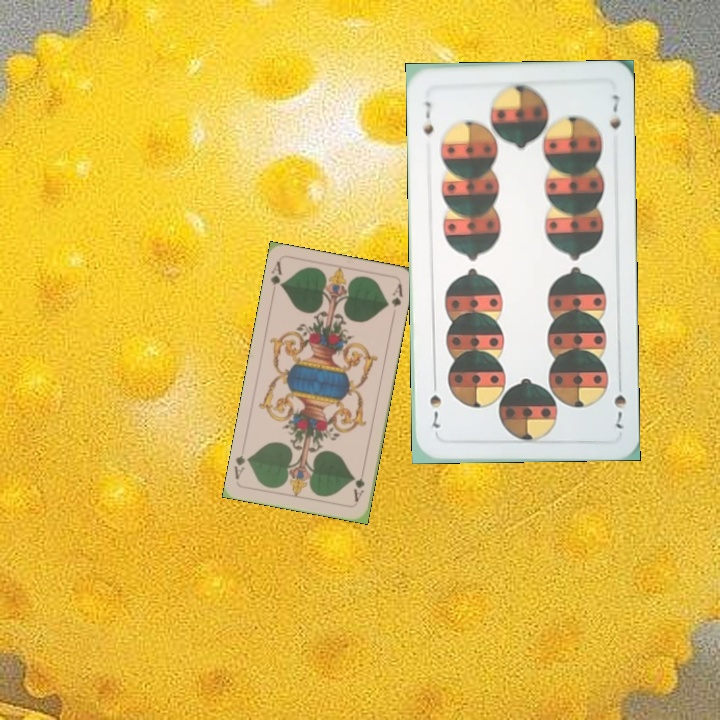GA: (349, 466, 367, 504), (266, 258, 285, 290)
S7: (610, 375, 629, 431), (419, 97, 436, 137)
